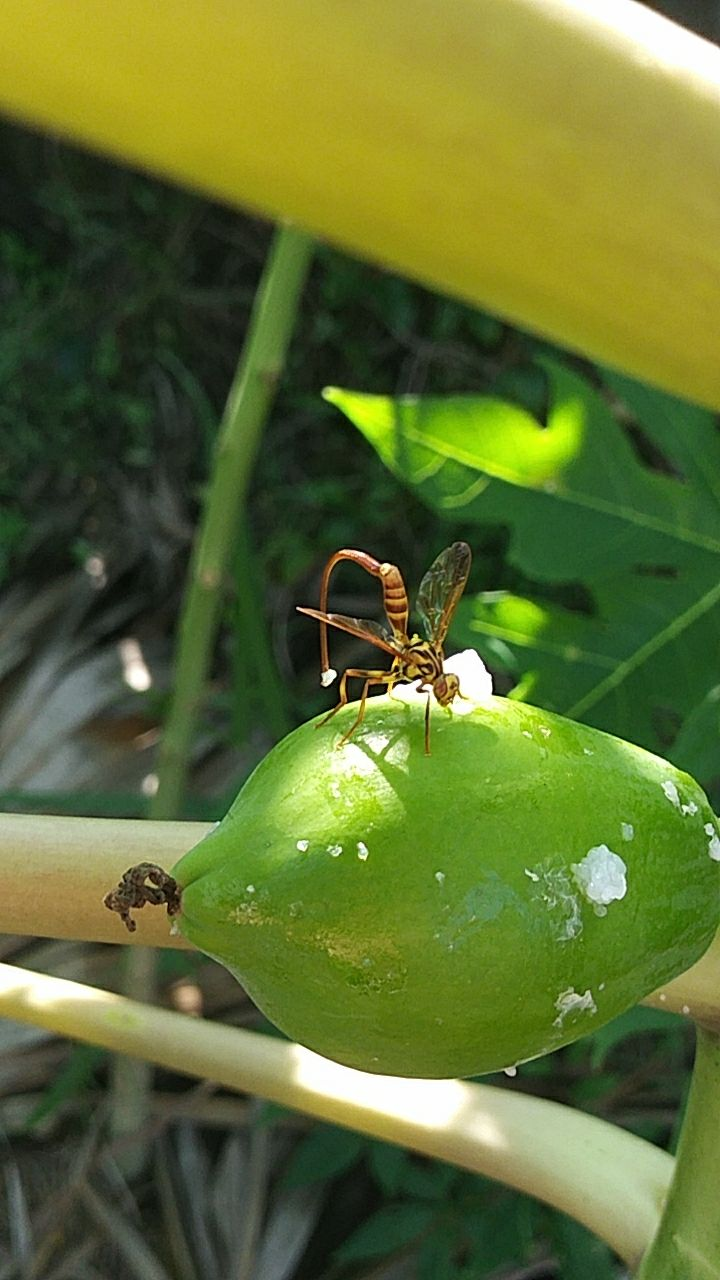Fruit fly: (269, 537, 502, 737)
